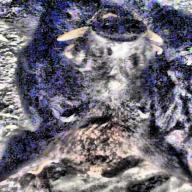boar: (3, 0, 191, 192)
